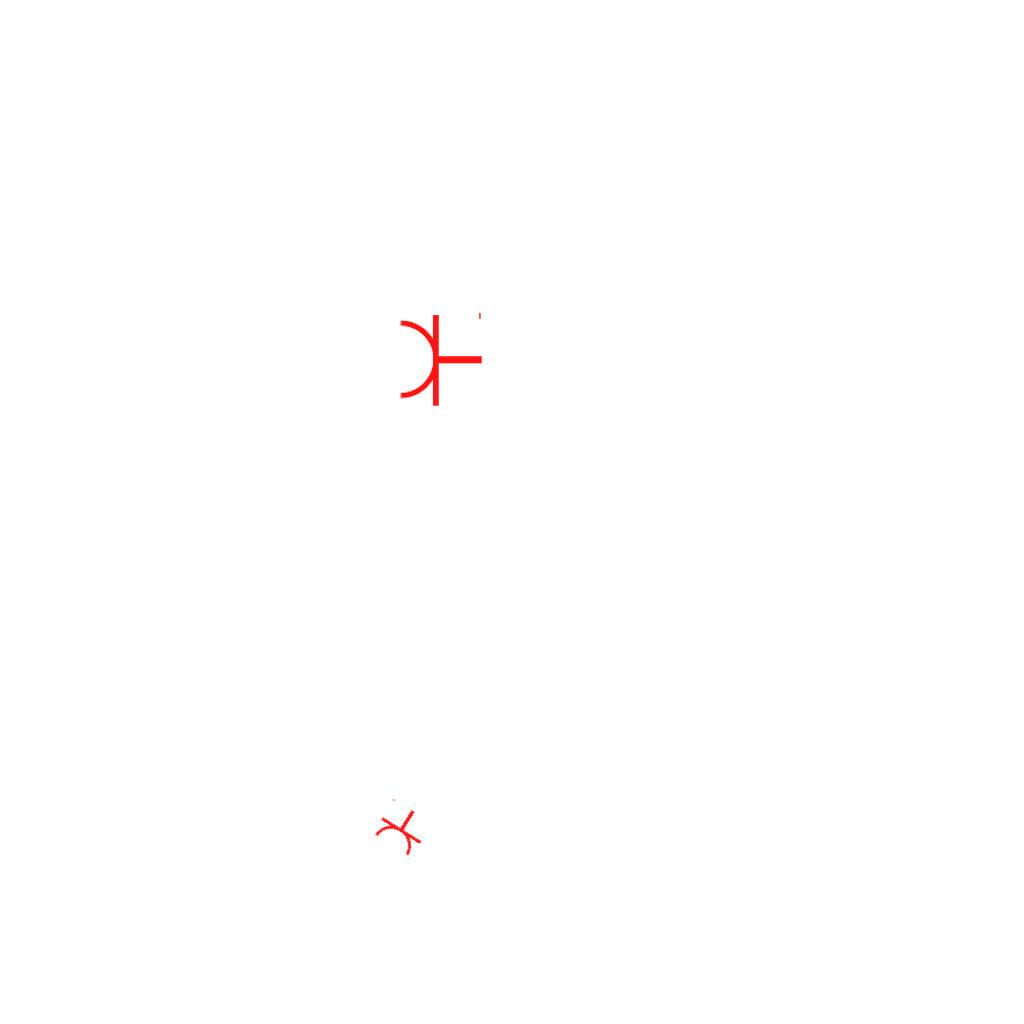Schukosteckdose_einfach: (397, 308, 484, 408), (368, 796, 435, 860)
